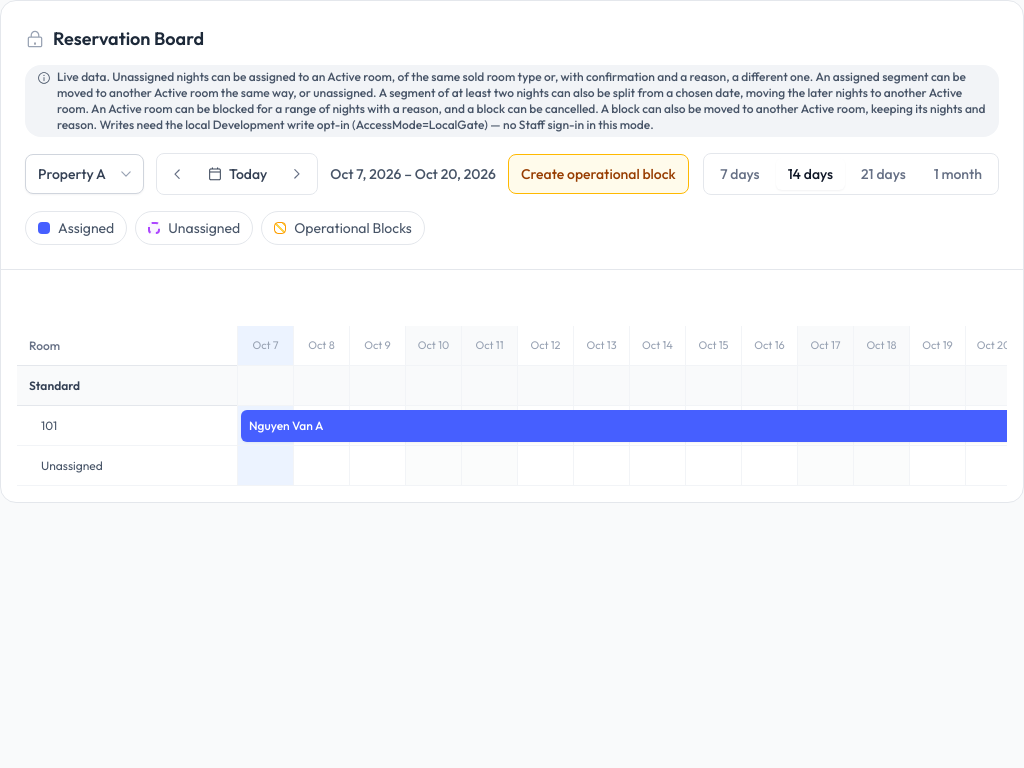
Test case: ReservationBoard › opens the read-only popover when a stay bar is selected, and closes it on demand
Expected: the button titled "Nguyen Van A — CNF-001" is shown, [241,410,1007,442]
Click the button titled "Nguyen Van A — CNF-001" at coordinates (286, 426), box [241,410,1017,442]
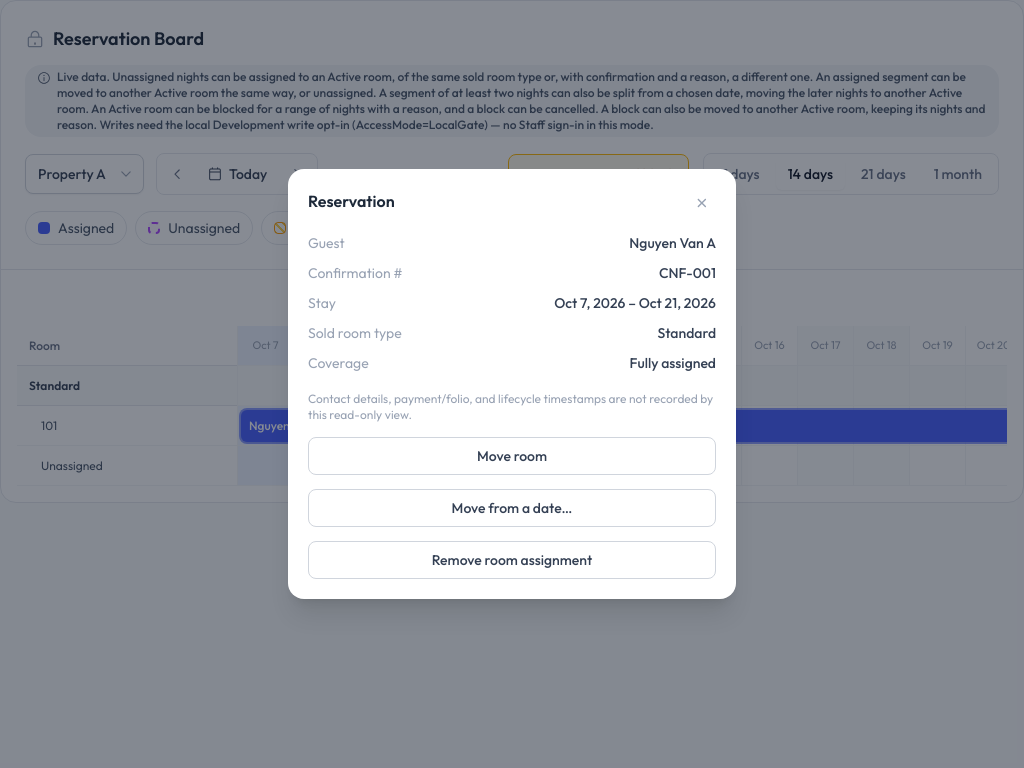
Result: the dialog named "Reservation details" is shown
Click the button named "Close" at coordinates (702, 203), box [688,189,716,217]
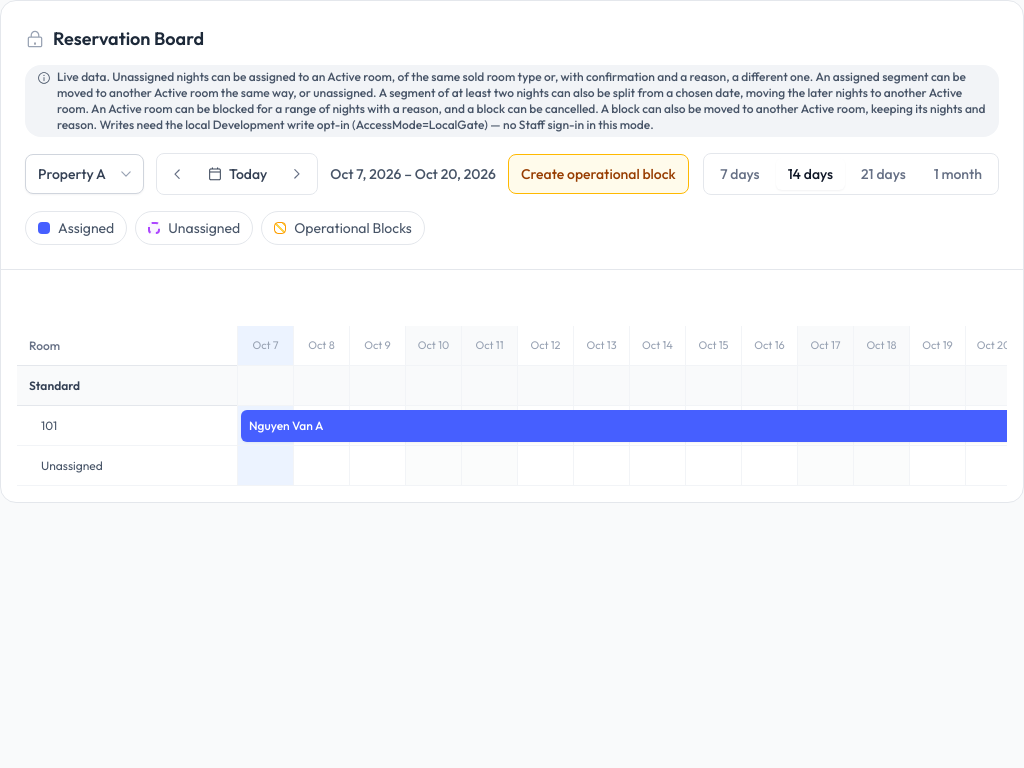
Result: the dialog is gone
